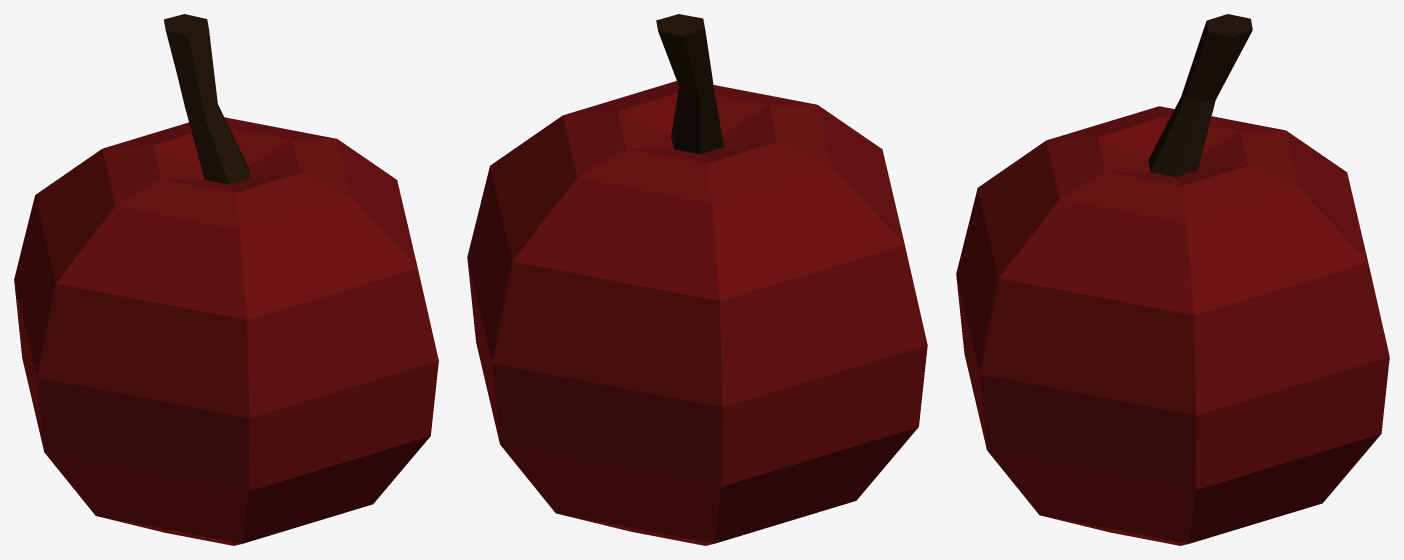
The model's file is Apfel.fbx.
The picture shows the model from 3 angles, left to right: view 1: azimuth 30°, elevation 25°; view 2: azimuth 150°, elevation 25°; view 3: azimuth 270°, elevation 25°; orthographic projection. The views are drawn at different scales.
Parts seen in each view (by area): view 1: Apple, Object001; view 2: Apple, Object001; view 3: Apple, Object001.
Boxes of the visible parts, x1,y1,x2,y2 form: Apple: [14, 117, 438, 545]; Object001: [164, 14, 250, 184]; Apple: [467, 81, 927, 545]; Object001: [656, 14, 723, 154]; Apple: [956, 106, 1389, 545]; Object001: [1148, 14, 1252, 176].
Bounding box in the file's own units: 179 × 201 × 164.
